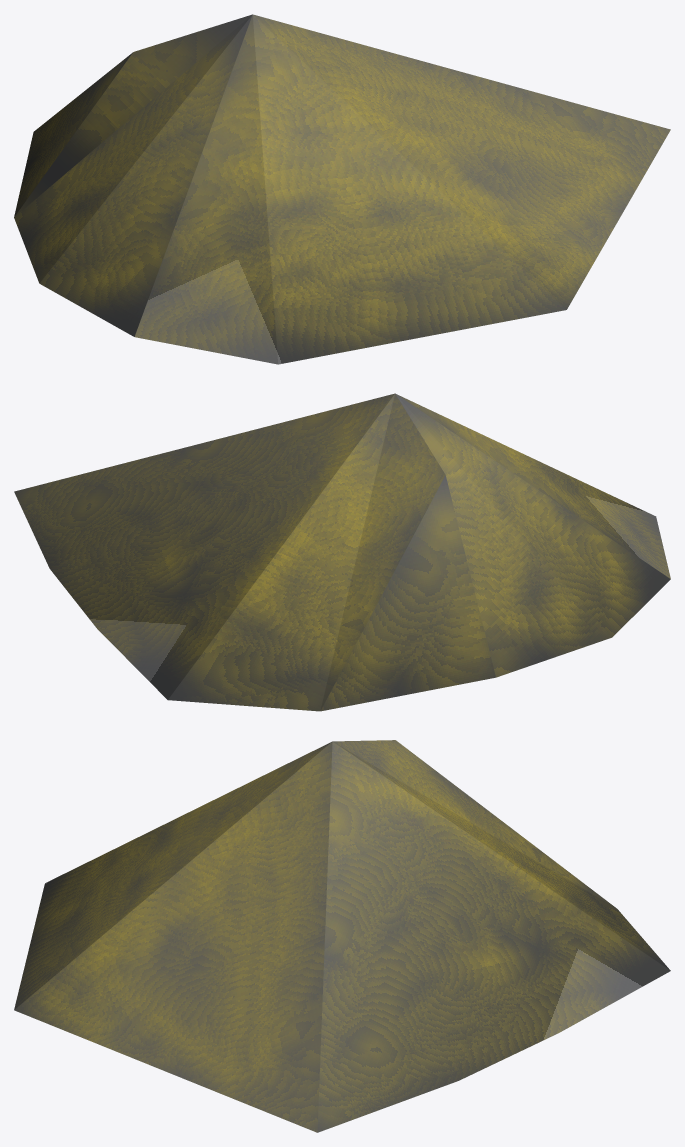
File: Venus.gltf
3 renders of one model, top to bottom at view 1: azimuth 30°, elevation 25°; view 2: azimuth 150°, elevation 25°; view 3: azimuth 270°, elevation 25°, orthographic. The views are drawn at different scales.
Parts seen in each view (by area): view 1: cone; view 2: cone; view 3: cone.
Boxes of the visible parts, x1,y1,x2,y2 form: cone: (14, 14, 670, 364); cone: (14, 393, 670, 711); cone: (14, 740, 670, 1132).
Size of what is drawn, in the model's own units: 21.3 by 6.75 by 20.08.
1 material, 1 textured.
